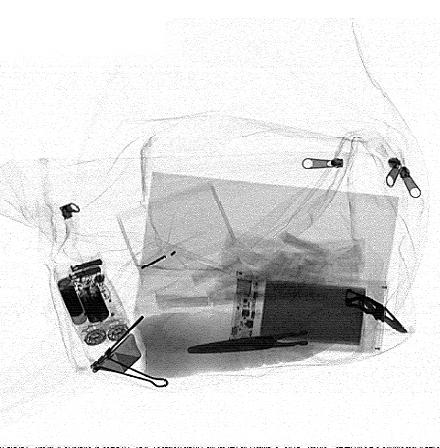Knife: (345, 289, 411, 333)
Powerbank: (231, 271, 389, 353)
Scissors: (187, 308, 363, 367)
